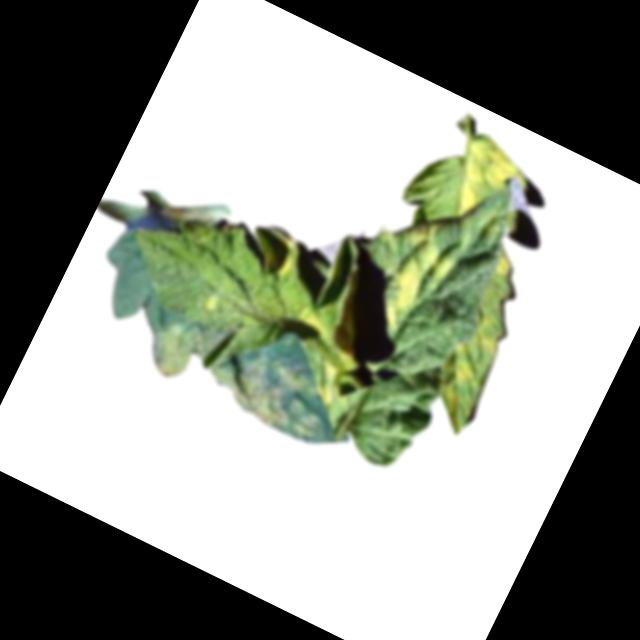Leaf_Mold: (133, 293, 344, 451), (418, 285, 528, 439), (360, 211, 467, 346), (268, 299, 371, 405), (440, 128, 529, 230), (235, 217, 305, 289), (490, 248, 520, 281)
